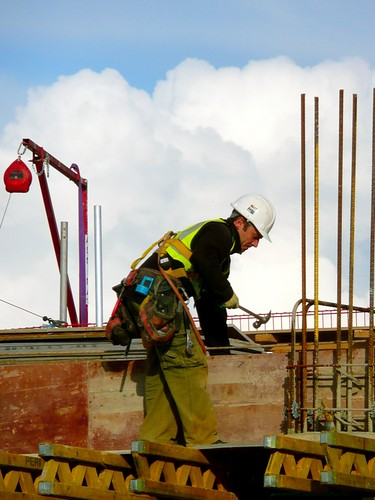person hardhat: (95, 194, 277, 441)
